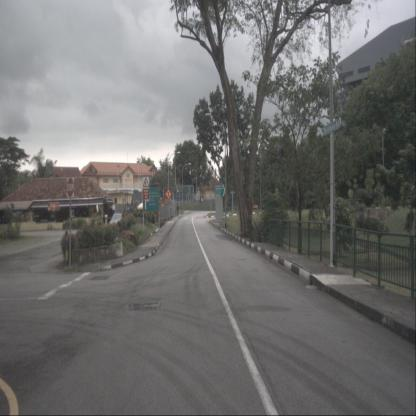human-pedestrian-adult: (177, 205, 179, 217)
vehicle-car: (109, 213, 124, 228)
